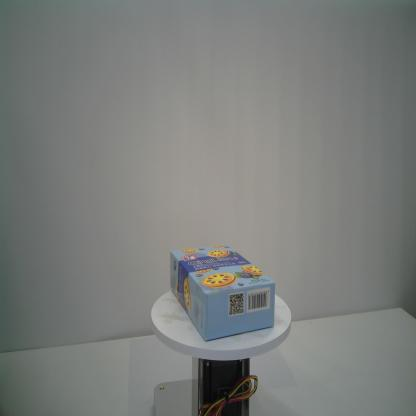Dessert: (169, 244, 276, 342)
